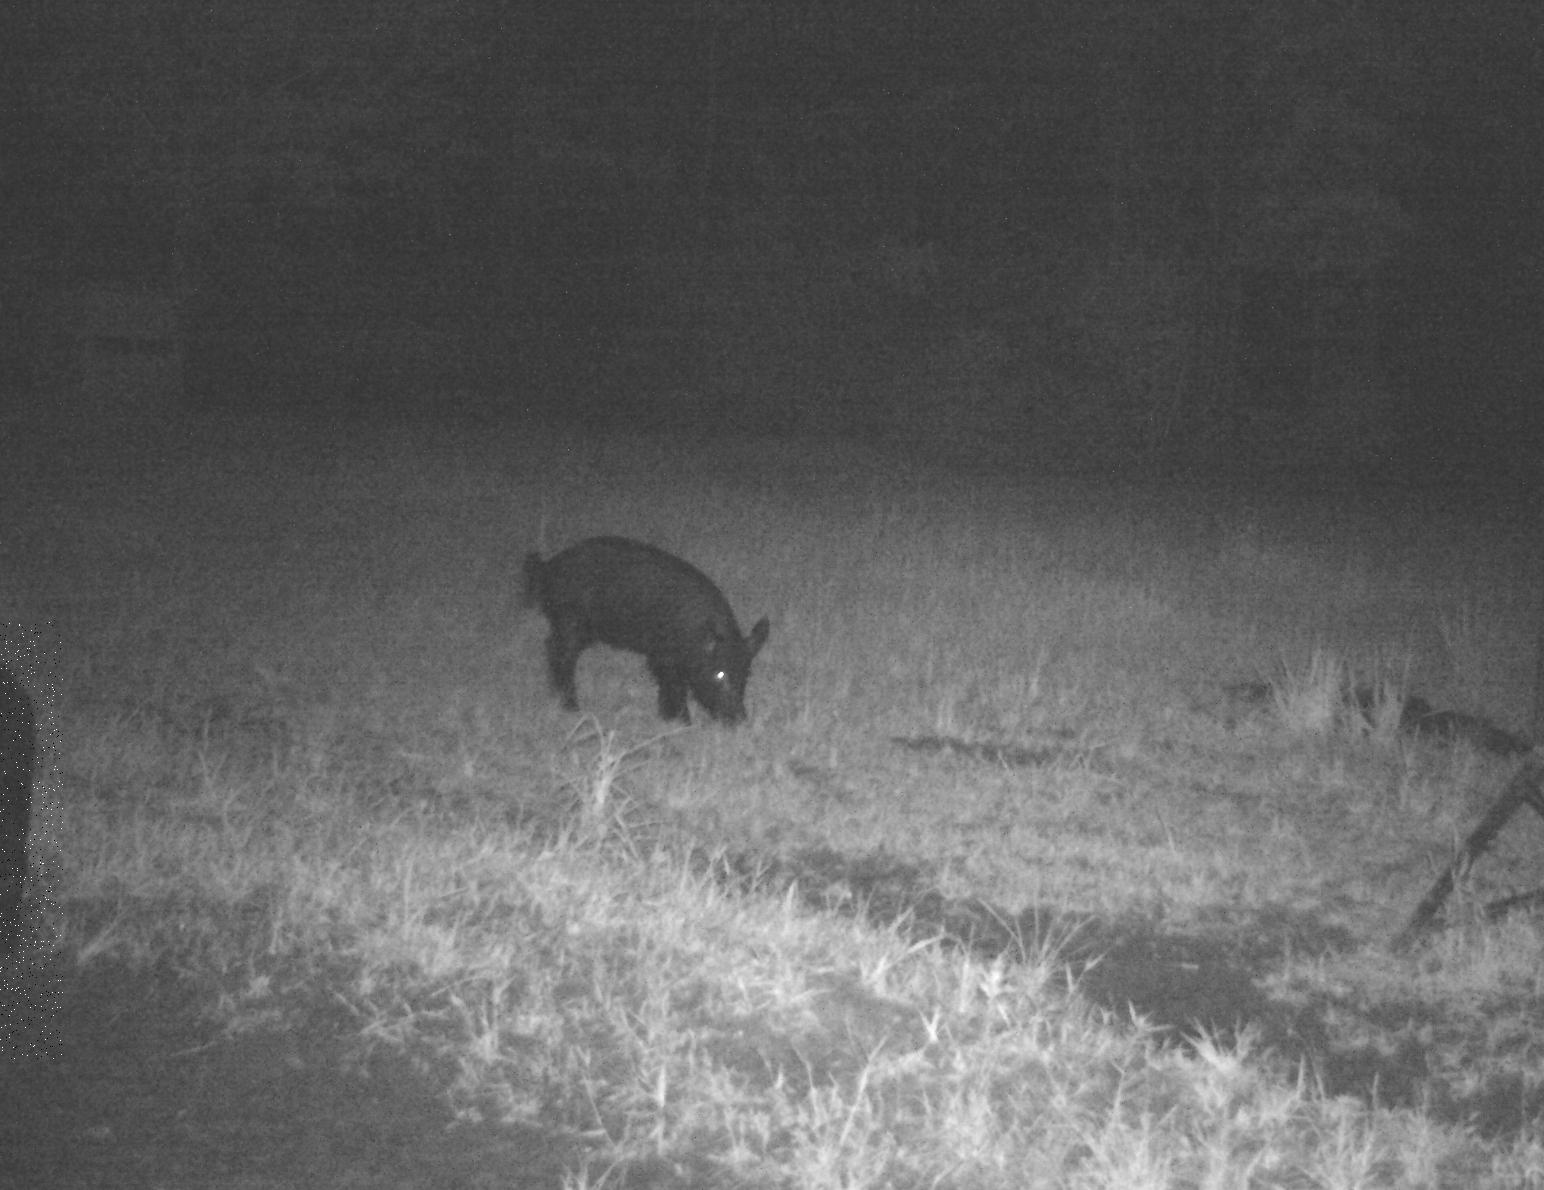Hog: (503, 527, 788, 736), (0, 622, 63, 1059)
